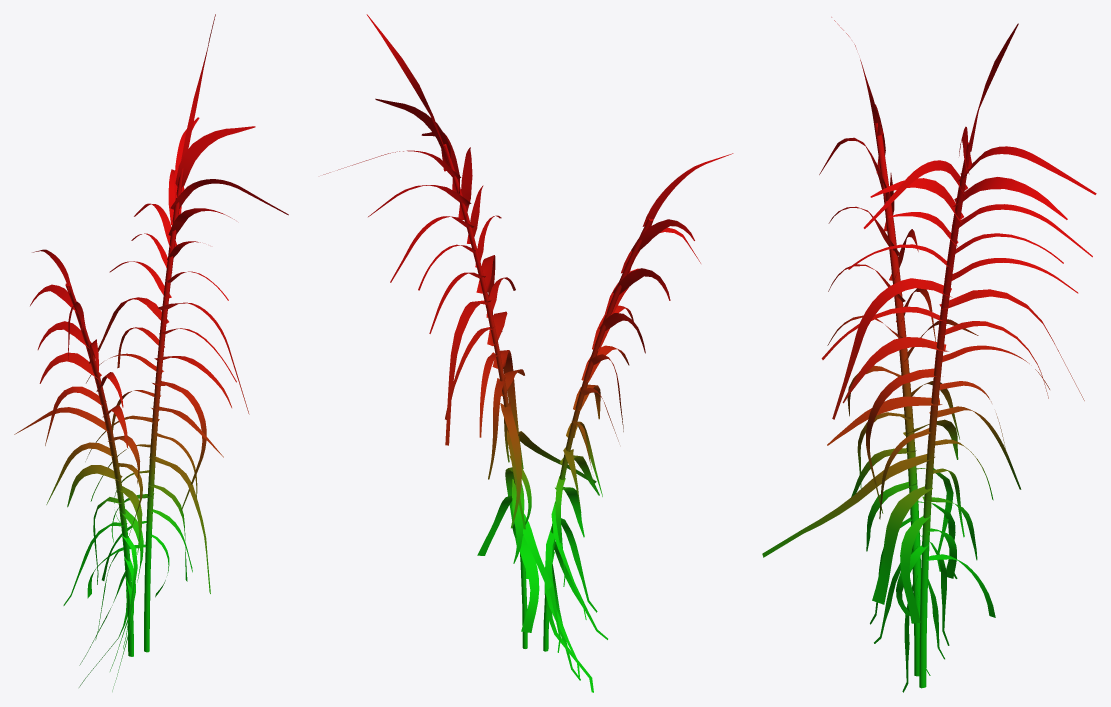
The model's file is Giant Reed_LOD0_Var3_sjllX.fbx.
The picture shows the model from 3 angles, left to right: view 1: azimuth 30°, elevation 25°; view 2: azimuth 150°, elevation 25°; view 3: azimuth 270°, elevation 25°; orthographic projection. The views are drawn at different scales.
Visible parts, largest first — view 1: _e957_Var3_LOD0; view 2: _e957_Var3_LOD0; view 3: _e957_Var3_LOD0.
Boxes of the visible parts, x1=… form: _e957_Var3_LOD0: x1=14, y1=14, x2=288, y2=691; _e957_Var3_LOD0: x1=323, y1=14, x2=733, y2=692; _e957_Var3_LOD0: x1=762, y1=17, x2=1096, y2=692.
Bounding box in the file's own units: 99.13 × 209 × 83.13.
